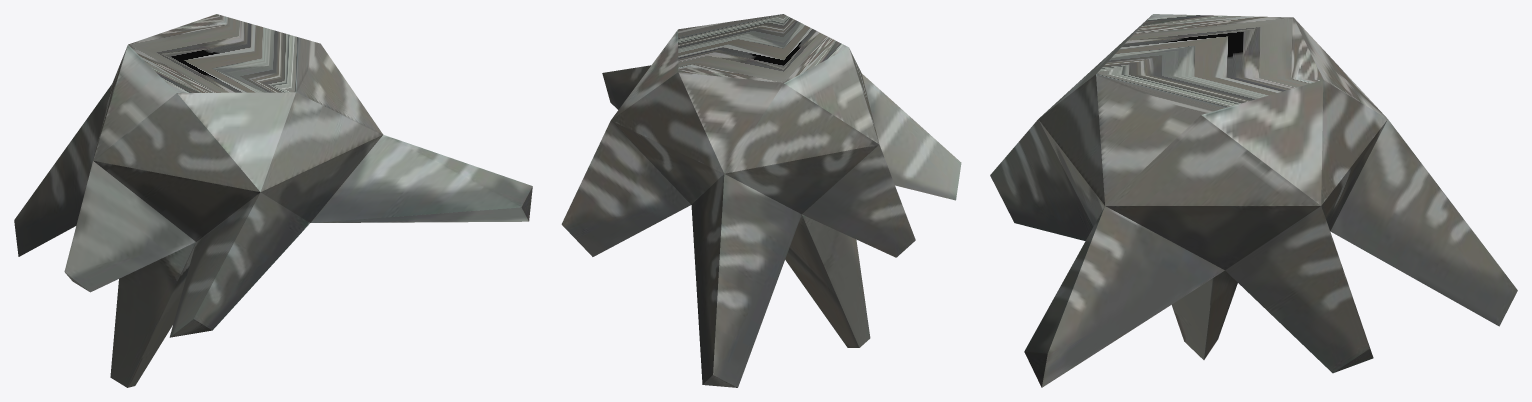
The model's file is stump.glb.
3 views of the same model, side by side, from view 1: azimuth 30°, elevation 25°; view 2: azimuth 150°, elevation 25°; view 3: azimuth 270°, elevation 25° (orthographic). The views are drawn at different scales.
Visible parts, largest first — view 1: Stump; view 2: Stump; view 3: Stump.
Part boxes in pixels (x1,y1,x2,y2): Stump: (14,14,532,387); Stump: (561,14,961,387); Stump: (990,14,1517,387).
Bounding box in the file's own units: 1.14 × 0.8242 × 1.09.
Materials: 1 (1 with a texture image).
